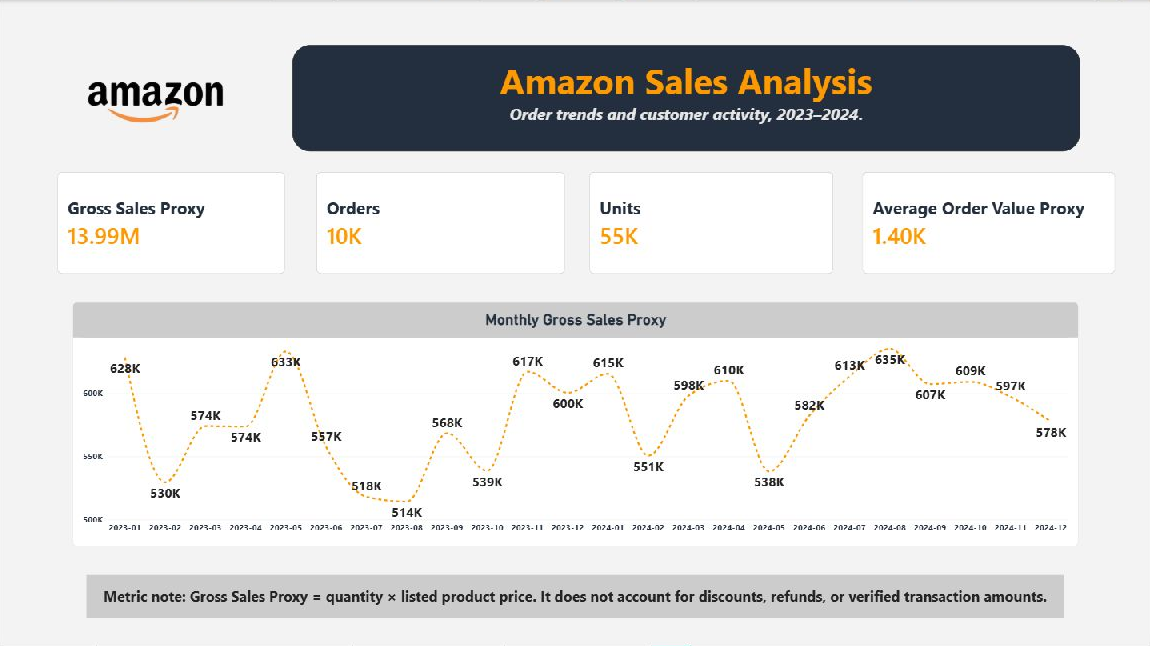

This screenshot's page, from the dashboard's own definition file:
{"tool":"powerbi","page":{"name":"Introduction","canvas":[1920,1080],"ordinal":0},"visuals":[{"type":"textbox","box":[487.5,75,1315,177.5],"z":0},{"type":"image","box":[110,15,297.5,297.5],"z":1000},{"type":"cardVisual","title":"Gross Sales Proxy","fields":{"Data":["amazon_sales fact_orders.Gross Sales Proxy"]},"box":[96,288,380,170],"z":2000},{"type":"cardVisual","fields":{"Data":["amazon_sales fact_orders.Orders"]},"box":[528,288,415,170],"z":3000},{"type":"cardVisual","fields":{"Data":["amazon_sales fact_orders.Units"]},"box":[984,288,407.5,170],"z":4000},{"type":"cardVisual","fields":{"Data":["amazon_sales fact_orders.Average Order Value Proxy"]},"box":[1440,288,422.5,170],"z":5000},{"type":"lineChart","title":"Monthly Gross Sales Proxy","fields":{"Category":["Dim_Date.Year-Month"],"Y":["amazon_sales fact_orders.Gross Sales Proxy"]},"box":[120,504,1680,408],"z":6000},{"type":"textbox","title":"Metric Note","box":[144,960,1632,72],"z":7000}]}

Visuals, with their boxes in screenshot pixels (x1, y1, x2, y2), scaled from the page's 1920x1080 canvas onto the 1150x646 screenshot:
textbox: {"x1": 292, "y1": 45, "x2": 1080, "y2": 151}
image: {"x1": 66, "y1": 9, "x2": 244, "y2": 187}
"Gross Sales Proxy" cardVisual: {"x1": 58, "y1": 172, "x2": 285, "y2": 274}
cardVisual - amazon_sales fact_orders.Orders: {"x1": 316, "y1": 172, "x2": 565, "y2": 274}
cardVisual - amazon_sales fact_orders.Units: {"x1": 589, "y1": 172, "x2": 833, "y2": 274}
cardVisual - amazon_sales fact_orders.Average Order Value Proxy: {"x1": 862, "y1": 172, "x2": 1116, "y2": 274}
"Monthly Gross Sales Proxy" lineChart: {"x1": 72, "y1": 301, "x2": 1078, "y2": 546}
"Metric Note" textbox: {"x1": 86, "y1": 574, "x2": 1064, "y2": 617}
